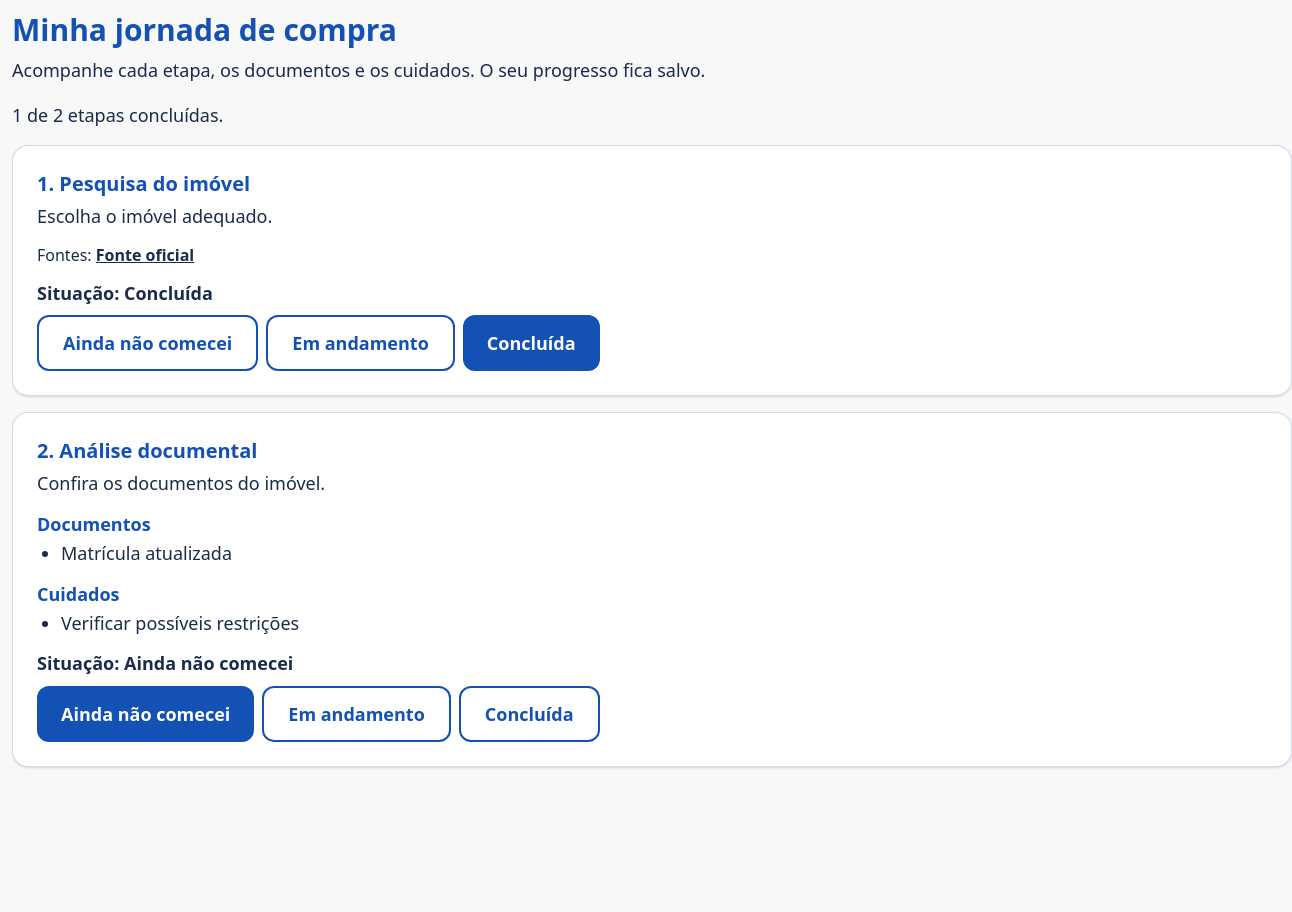
Scenario: Jornada › mostra erro quando nao consegue salvar progresso
This screenshot has width=1292, height=912.
Expected: the list item "2. Análise documental" is shown, left=12, top=412, right=1291, bottom=767
Click the button "Concluída" below "Verificar possíveis restrições". click: (529, 714)
box: left=459, top=686, right=600, bottom=742
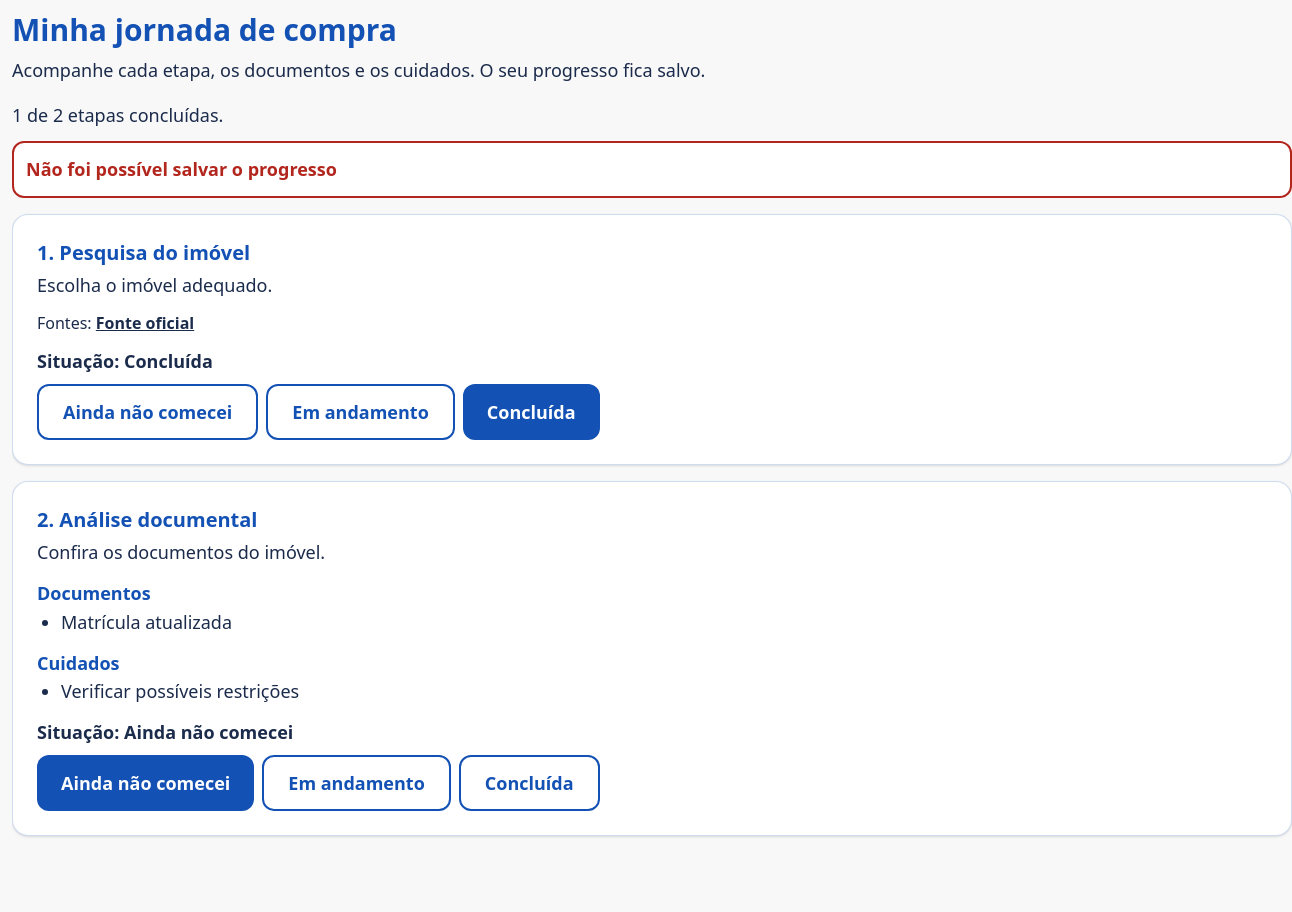
Expected: the text "1 de 2 etapas concluídas." is shown, left=12, top=103, right=223, bottom=127
Expected: the message "Não foi possível salvar o progresso" is shown, left=12, top=141, right=1291, bottom=198
